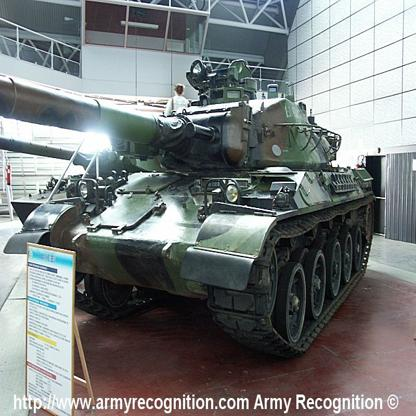Tank: (24, 62, 383, 361)
